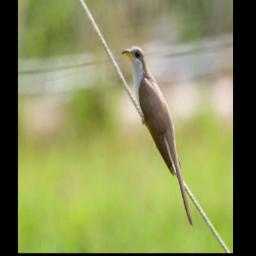Cuckoo: (120, 45, 195, 232)
